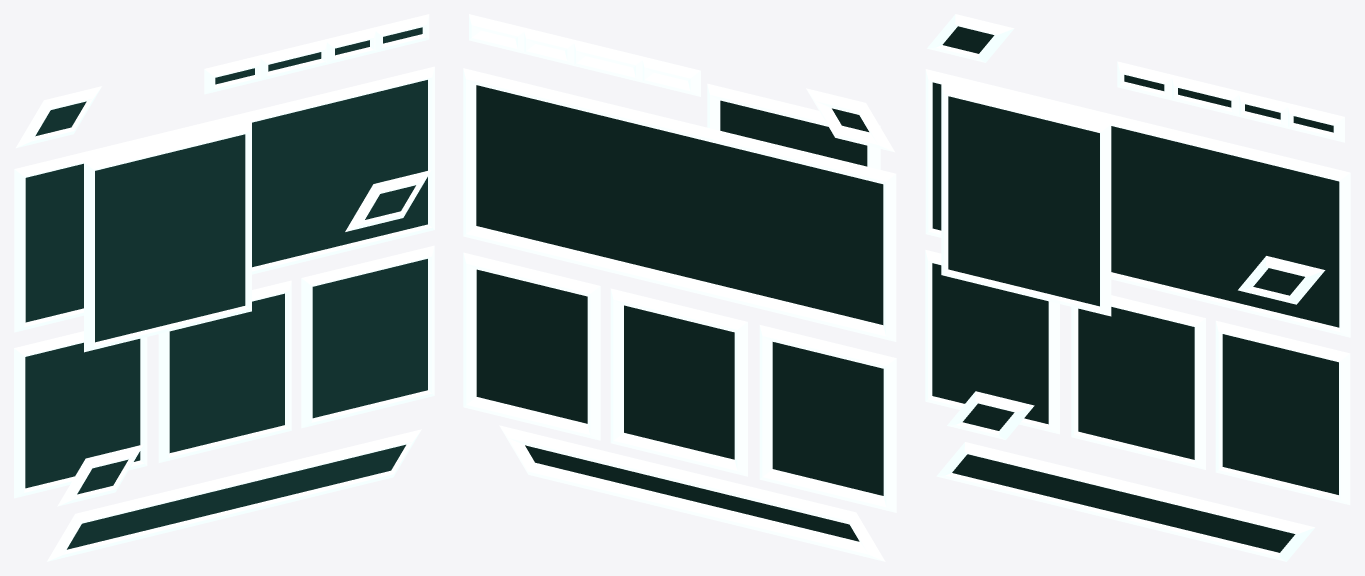
The model's file is icon2.glb.
3 renders of one model, left to right at view 1: azimuth 30°, elevation 25°; view 2: azimuth 150°, elevation 25°; view 3: azimuth 330°, elevation 25°, orthographic. The views are drawn at different scales.
Parts seen in each view (by area): view 1: model, edge; view 2: model, edge; view 3: model, edge.
Boxes of the visible parts, <box> form: model: <box>25,27,427,549</box>; edge: <box>14,14,434,561</box>; model: <box>476,85,883,541</box>; edge: <box>463,14,896,561</box>; model: <box>932,26,1339,552</box>; edge: <box>925,14,1350,561</box>.
Size of the model in its own units: 1.79 by 1.84 by 0.2533.
